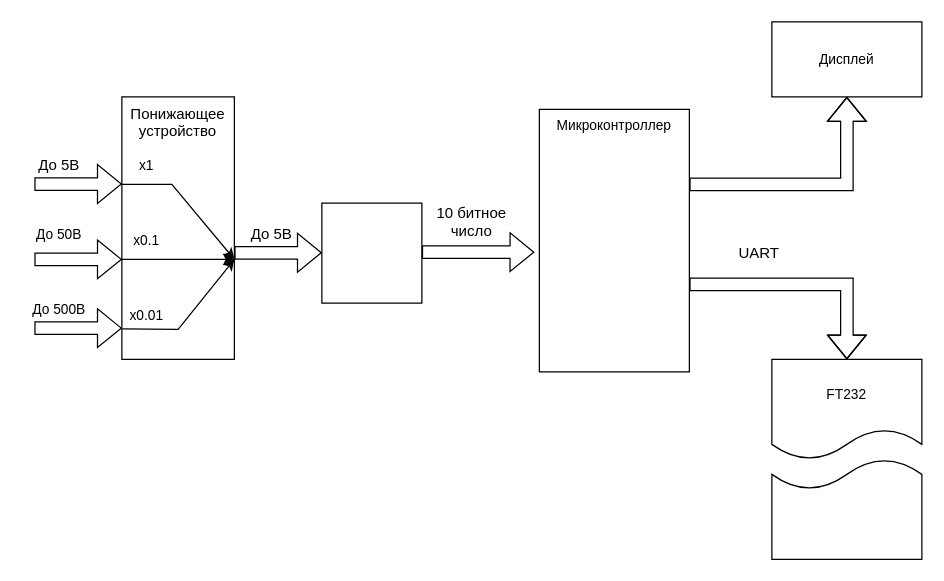
The diagram is 944 pixels wide and 581 high, and some of its shapes have lost their labels. Each missing label, with the centre of its shape:
"USB" belongs at [846,508].
"АЦП" belongs at [371,252].
